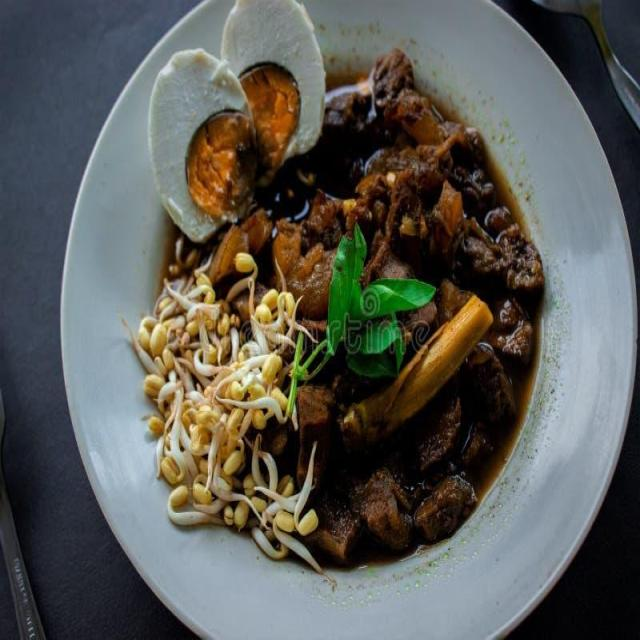Rawon: (145, 62, 523, 543)
